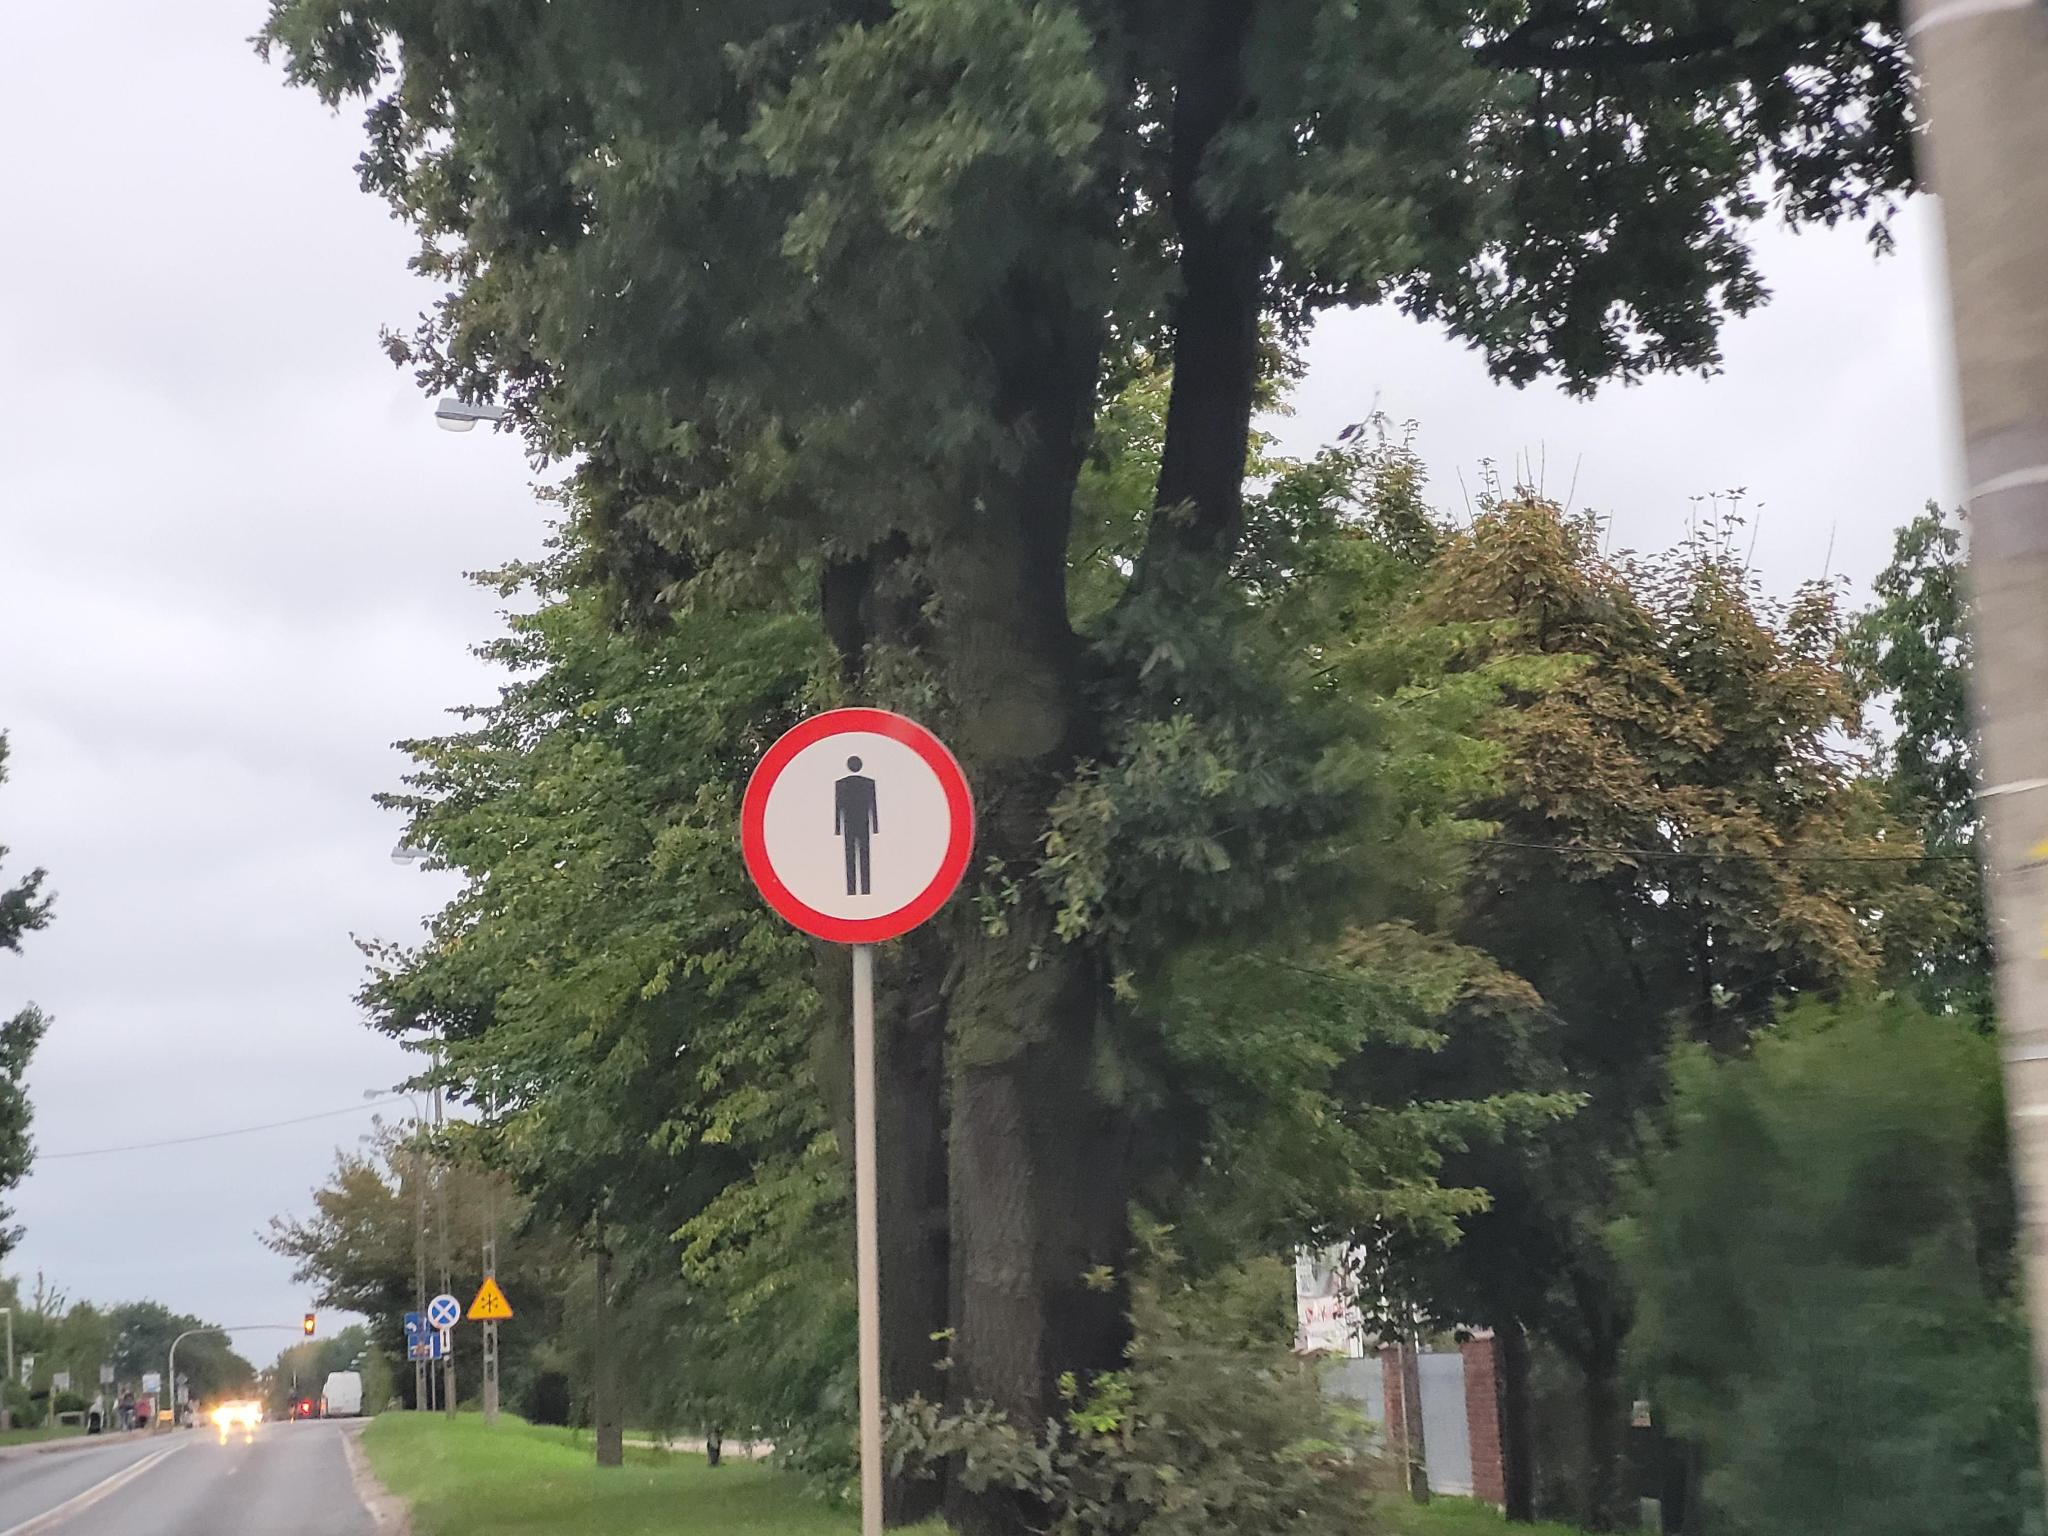other: (410, 1334, 443, 1360), (405, 1313, 431, 1334), (439, 1328, 452, 1354)
prohibitory: (734, 707, 980, 947), (426, 1294, 461, 1329)
warning: (468, 1275, 514, 1321)
